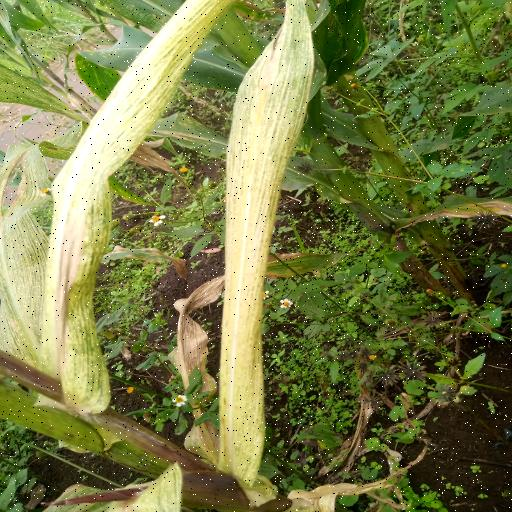Corn_Streak: (17, 2, 224, 398), (227, 0, 331, 492)
